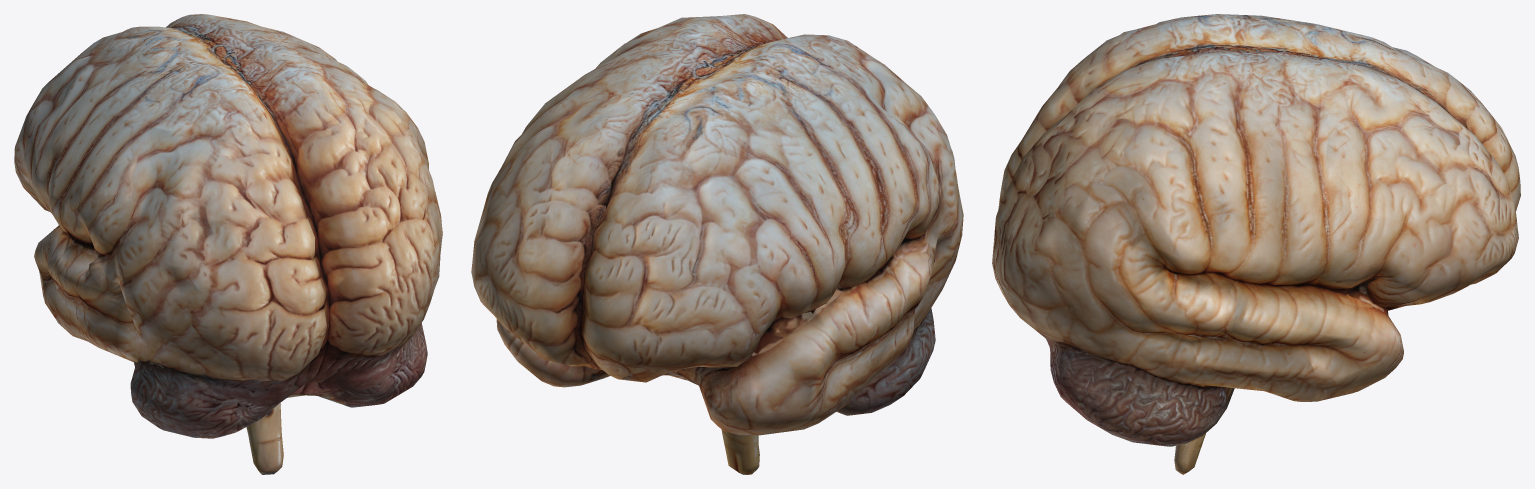
File: Human_Brain.glb
3 views of the same model, side by side, from view 1: azimuth 30°, elevation 25°; view 2: azimuth 150°, elevation 25°; view 3: azimuth 270°, elevation 25° (orthographic). The views are drawn at different scales.
Visible parts, largest first — view 1: 663fa5ca-5fa6-4530-9438-7c7bf36c4bd9; view 2: 663fa5ca-5fa6-4530-9438-7c7bf36c4bd9; view 3: 663fa5ca-5fa6-4530-9438-7c7bf36c4bd9.
Part boxes in pixels (<box>): 663fa5ca-5fa6-4530-9438-7c7bf36c4bd9: <box>14,14,442,474</box>; 663fa5ca-5fa6-4530-9438-7c7bf36c4bd9: <box>471,14,963,474</box>; 663fa5ca-5fa6-4530-9438-7c7bf36c4bd9: <box>992,14,1520,474</box>.
Size of the model in its own units: 0.9267 by 1.08 by 1.2.
Materials: 1 (1 with a texture image).
